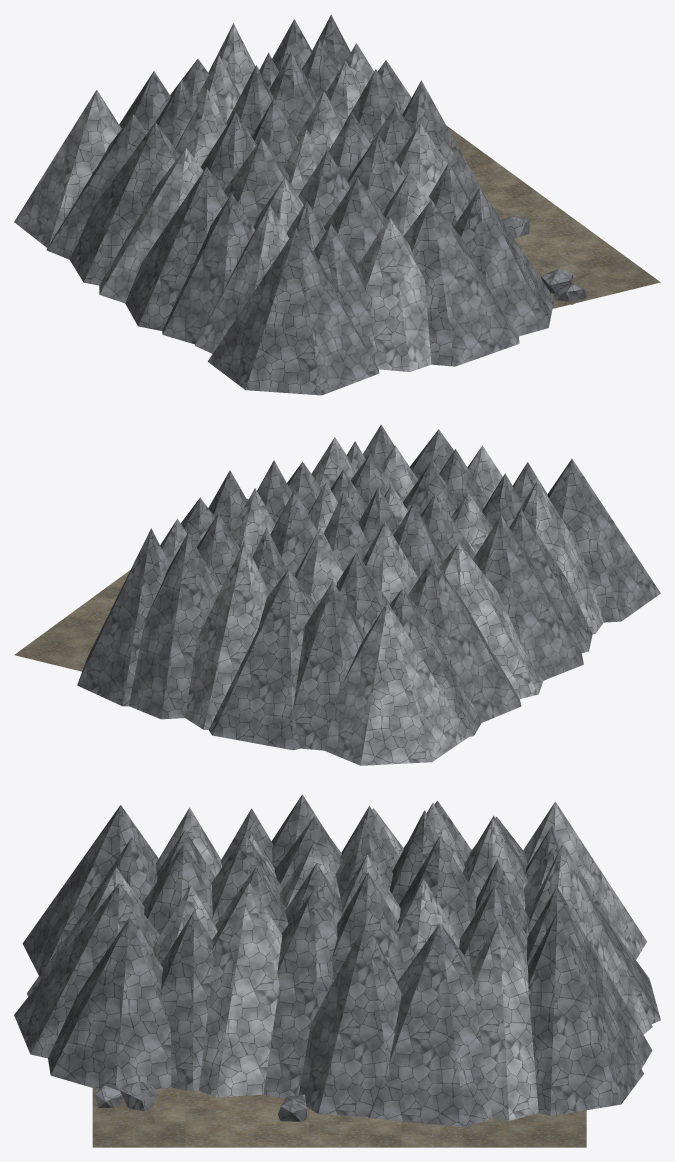
Rendered from chunk_11_19.glb.
3 renders of one model, top to bottom at view 1: azimuth 30°, elevation 25°; view 2: azimuth 150°, elevation 25°; view 3: azimuth 270°, elevation 25°, orthographic. The views are drawn at different scales.
Parts seen in each view (by area): view 1: chunk_11_19; view 2: chunk_11_19; view 3: chunk_11_19.
Boxes of the visible parts, bbox=[...] form: chunk_11_19: bbox=[14, 15, 660, 395]; chunk_11_19: bbox=[14, 424, 660, 765]; chunk_11_19: bbox=[14, 794, 660, 1147].
Size of the model in its own units: 18.49 by 7.48 by 20.96.
Materials: 4 (4 with a texture image).
